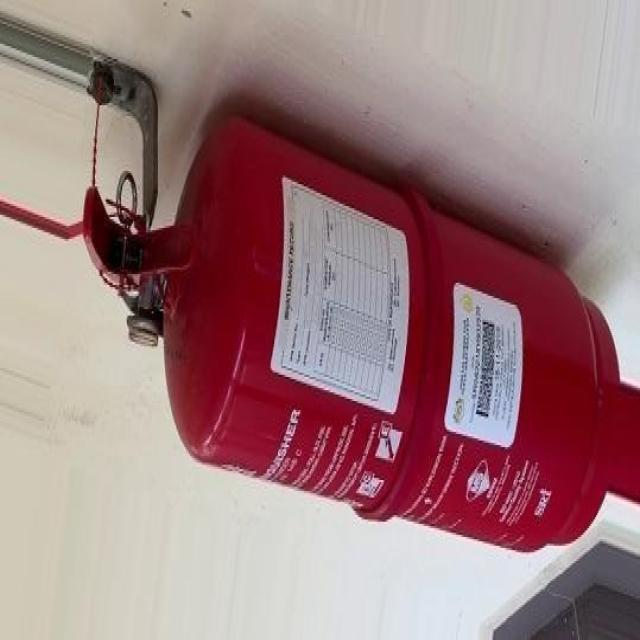fire_extinguisher: (79, 103, 624, 557)
